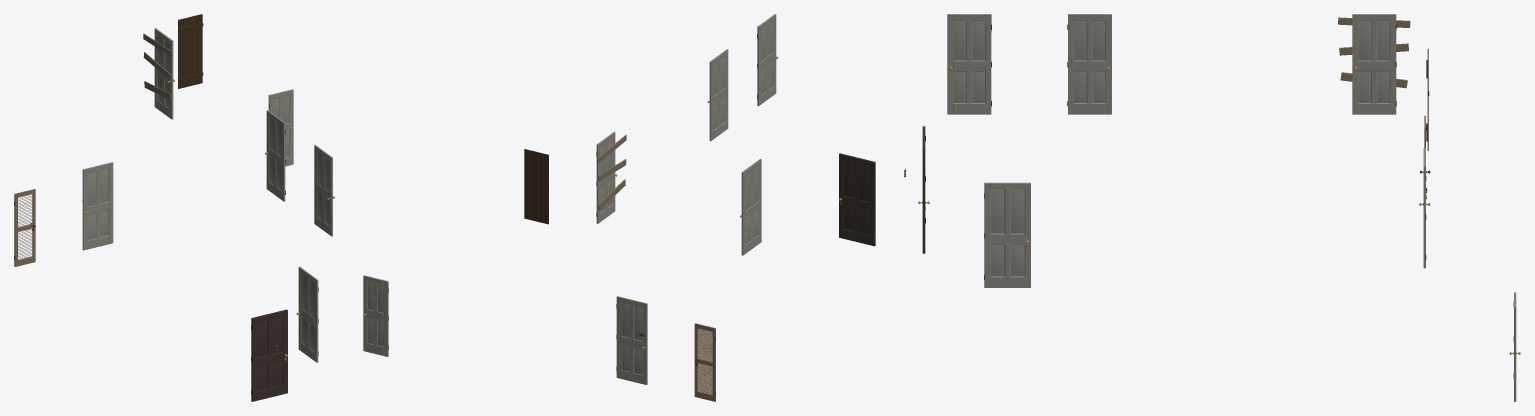
File: doors.glb
The picture shows the model from 3 angles, left to right: view 1: azimuth 30°, elevation 25°; view 2: azimuth 150°, elevation 25°; view 3: azimuth 270°, elevation 25°; orthographic projection. The views are drawn at different scales.
Parts seen in each view (by area): view 1: door_D_FRONT, door_D_PASSAGE, door_D_PARLOR, door_D_WARDROBE_BACK, door_D_HARLAN, door_D_DRESSING, door_D_CLOSET, door_D_ADA, door_D_BACKSTAIR; view 2: door_D_FRONT, door_D_PASSAGE, door_D_BACKSTAIR, door_D_PARLOR, door_D_WARDROBE_BACK, door_D_CLOSET, door_D_DRESSING, door_D_HARLAN, door_D_ADA; view 3: door_D_PARLOR, door_D_DRESSING, door_D_ADA, door_D_HARLAN.
Part boxes in pixels (<box>): door_D_FRONT: <box>251,309,287,401</box>; door_D_PASSAGE: <box>82,162,113,250</box>; door_D_PARLOR: <box>296,266,318,362</box>; door_D_WARDROBE_BACK: <box>178,14,203,88</box>; door_D_HARLAN: <box>265,110,285,201</box>; door_D_DRESSING: <box>314,145,334,236</box>; door_D_CLOSET: <box>14,189,35,266</box>; door_D_ADA: <box>154,28,174,119</box>; door_D_BACKSTAIR: <box>268,89,293,166</box>; door_D_FRONT: <box>839,153,875,246</box>; door_D_PASSAGE: <box>616,296,647,384</box>; door_D_BACKSTAIR: <box>363,275,388,356</box>; door_D_PARLOR: <box>740,158,761,255</box>; door_D_WARDROBE_BACK: <box>524,149,548,224</box>; door_D_CLOSET: <box>694,323,715,401</box>; door_D_DRESSING: <box>757,14,778,106</box>; door_D_HARLAN: <box>707,49,728,141</box>; door_D_ADA: <box>596,131,617,223</box>; door_D_PARLOR: <box>984,182,1030,287</box>; door_D_DRESSING: <box>947,14,991,114</box>; door_D_ADA: <box>1352,14,1396,114</box>; door_D_HARLAN: <box>1067,14,1111,114</box>.
Size of the model in its own units: 8.41 by 5.51 by 11.27.
